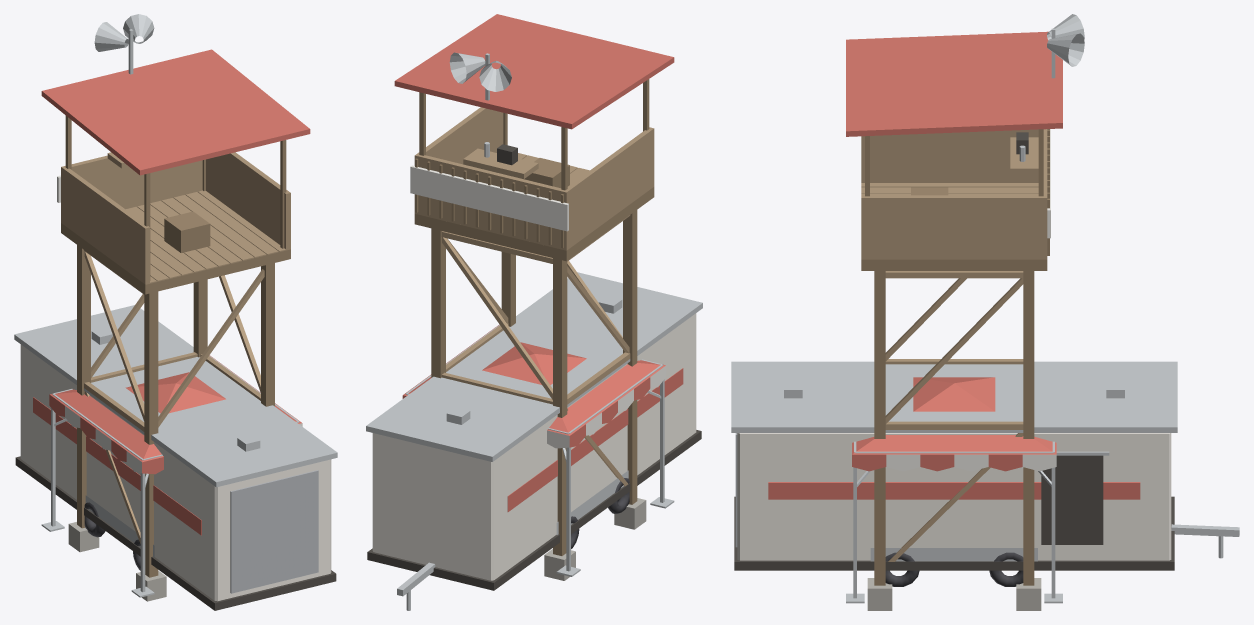
The model's file is bike_pits.glb.
3 views of the same model, side by side, from view 1: azimuth 30°, elevation 25°; view 2: azimuth 150°, elevation 25°; view 3: azimuth 270°, elevation 25° (orthographic). The views are drawn at different scales.
Parts seen in each view (by area): view 1: bk_tower_mesh, bk_trailer_mesh, bk_canopy_red_mesh; view 2: bk_tower_mesh, bk_trailer_mesh, bk_canopy_red_mesh; view 3: bk_trailer_mesh, bk_tower_mesh, bk_canopy_red_mesh.
Part boxes in pixels (<box>): bk_tower_mesh: <box>41,14,310,601</box>; bk_trailer_mesh: <box>14,305,337,610</box>; bk_canopy_red_mesh: <box>41,355,302,597</box>; bk_tower_mesh: <box>394,14,674,580</box>; bk_trailer_mesh: <box>366,272,702,610</box>; bk_canopy_red_mesh: <box>402,324,674,576</box>; bk_trailer_mesh: <box>731,361,1239,586</box>; bk_tower_mesh: <box>846,14,1084,610</box>; bk_canopy_red_mesh: <box>846,377,1062,603</box>.
Size of the model in its own units: 3.5 by 9.78 by 8.2.
